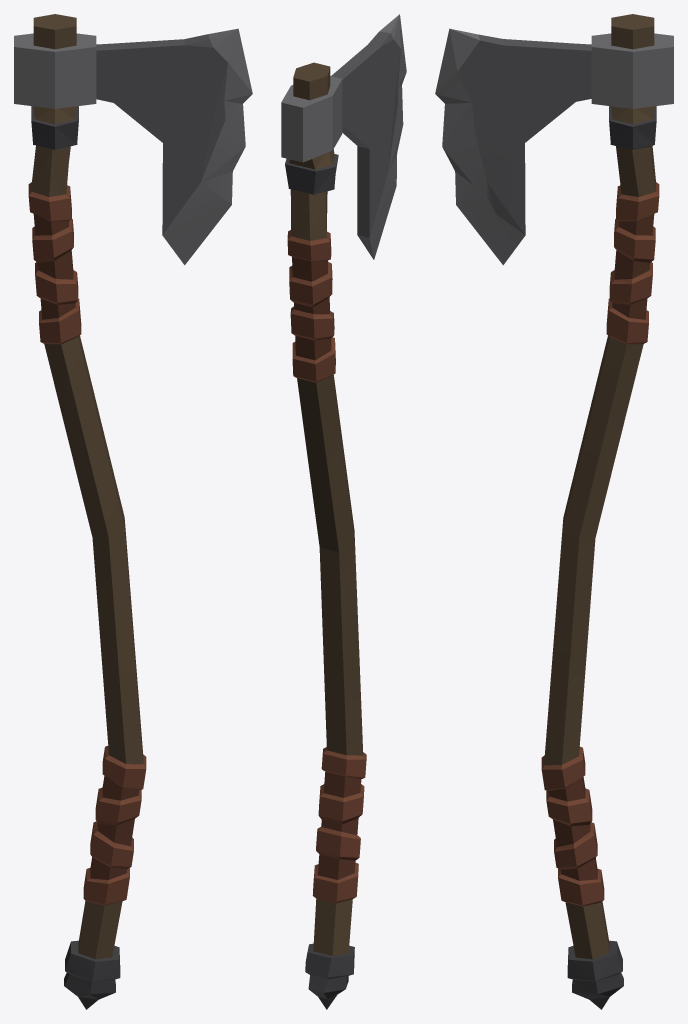
File: Hacha_02.glb
The picture shows the model from 3 angles, left to right: view 1: azimuth 90°, elevation 25°; view 2: azimuth 150°, elevation 25°; view 3: azimuth 270°, elevation 25°; orthographic projection. The views are drawn at different scales.
Visible parts, largest first — view 1: SM_Wep_LargeAxe_01; view 2: SM_Wep_LargeAxe_01; view 3: SM_Wep_LargeAxe_01.
Part boxes in pixels (bbox=[...]): SM_Wep_LargeAxe_01: bbox=[14, 14, 252, 1009]; SM_Wep_LargeAxe_01: bbox=[281, 14, 406, 1009]; SM_Wep_LargeAxe_01: bbox=[435, 14, 673, 1009].
Size of the model in its own units: 0.0912 by 1.69 by 0.3712.
1 material, 1 textured.
